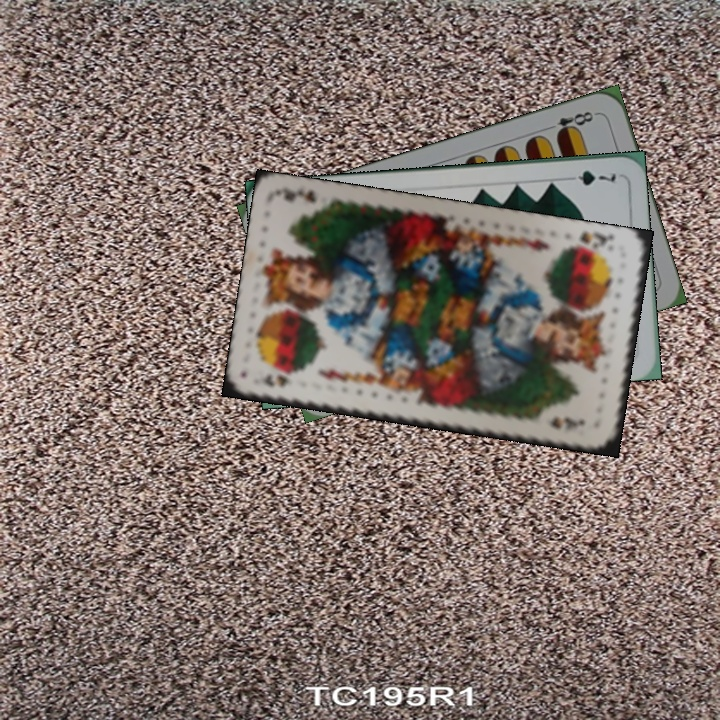E8: (542, 107, 600, 139)
G7: (561, 166, 620, 188)
SK: (563, 227, 617, 256), (259, 370, 294, 389)
